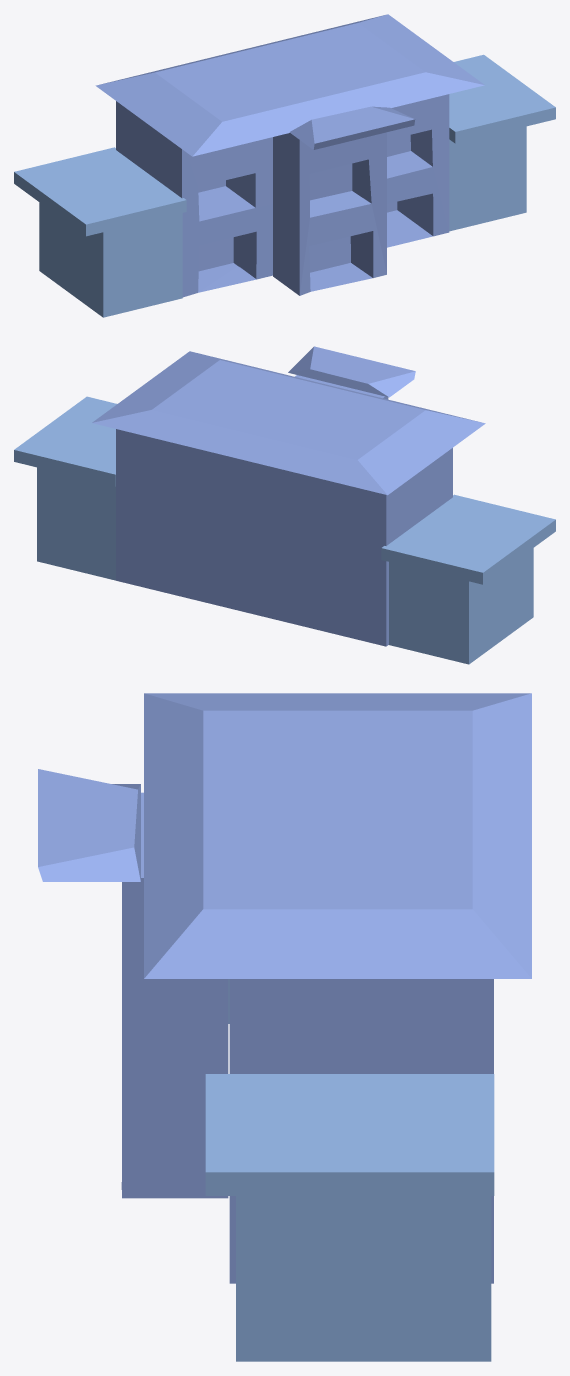
The model's file is ASBNav.glb.
3 renders of one model, top to bottom at view 1: azimuth 30°, elevation 25°; view 2: azimuth 150°, elevation 25°; view 3: azimuth 270°, elevation 25°, orthographic. The views are drawn at different scales.
Visible parts, largest first — view 1: Cube.002, Cube, Cube.001, Cube.004, Cube.006, Cube.003, Cube.005; view 2: Cube, Cube.002, Cube.004, Cube.006, Cube.003, Cube.005; view 3: Cube.002, Cube.003, Cube.005, Cube, Cube.001.
Boxes of the visible parts, left/top/right/bottom form: Cube.002: left=95, top=14, right=484, bottom=156; Cube: left=116, top=94, right=449, bottom=297; Cube.001: left=273, top=132, right=386, bottom=295; Cube.004: left=39, top=202, right=182, bottom=317; Cube.006: left=14, top=147, right=186, bottom=236; Cube.003: left=449, top=126, right=526, bottom=231; Cube.005: left=449, top=54, right=555, bottom=143; Cube: left=116, top=429, right=452, bottom=646; Cube.002: left=92, top=346, right=485, bottom=495; Cube.004: left=389, top=548, right=533, bottom=664; Cube.006: left=381, top=494, right=555, bottom=584; Cube.003: left=37, top=467, right=115, bottom=580; Cube.005: left=14, top=396, right=116, bottom=486; Cube.002: left=38, top=693, right=531, bottom=978; Cube.003: left=236, top=1196, right=491, bottom=1361; Cube.005: left=205, top=1074, right=494, bottom=1195; Cube: left=229, top=979, right=493, bottom=1283; Cube.001: left=121, top=792, right=228, bottom=1198.
Size of the model in its own units: 24.47 by 8.68 by 11.21.
